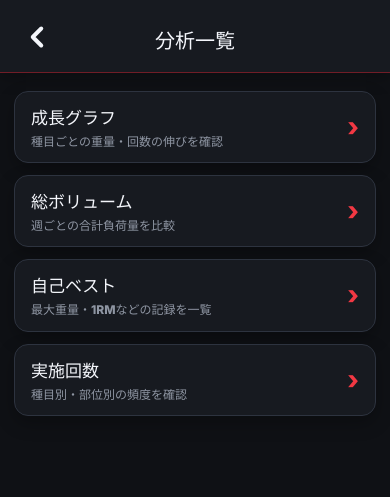
it: AnalysisScreen › 詳細ページのヘッダに「総ボリューム」を表示する
This screenshot has width=390, height=497.
Click the button "総ボリューム 週ごとの合計負荷量を比較" at (82, 202), box [14,175,376,247]
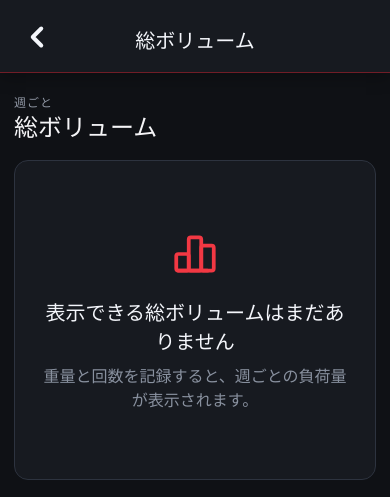
Now the text "総ボリューム" is shown, box [135,28,255,52]
